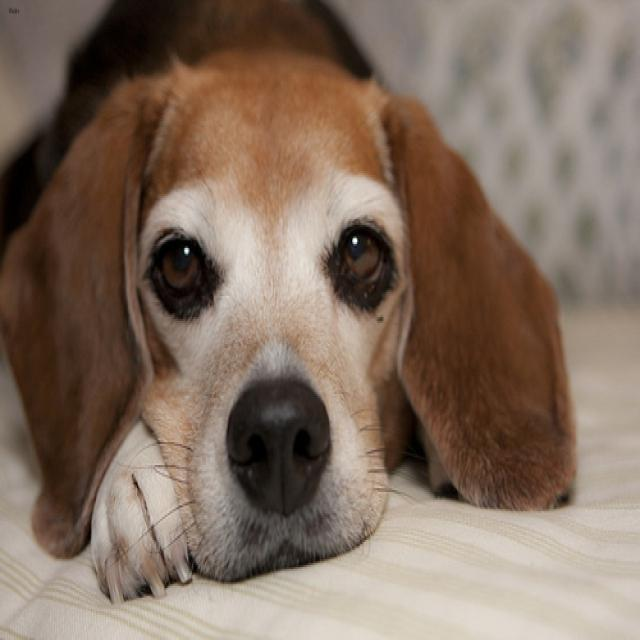dog-beagle: (1, 2, 585, 621)
